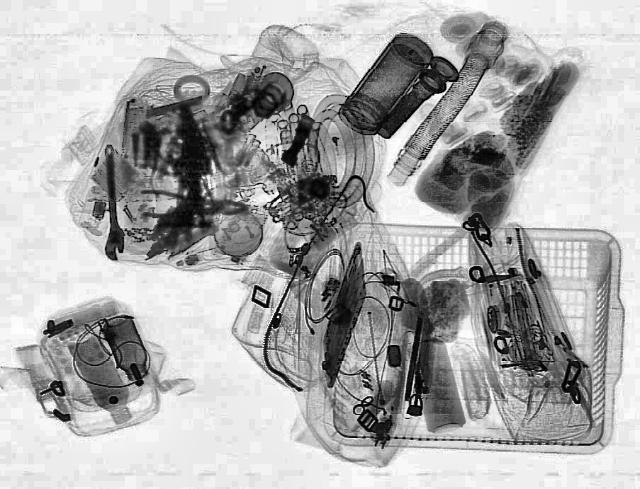Wrench: (96, 144, 126, 260)
